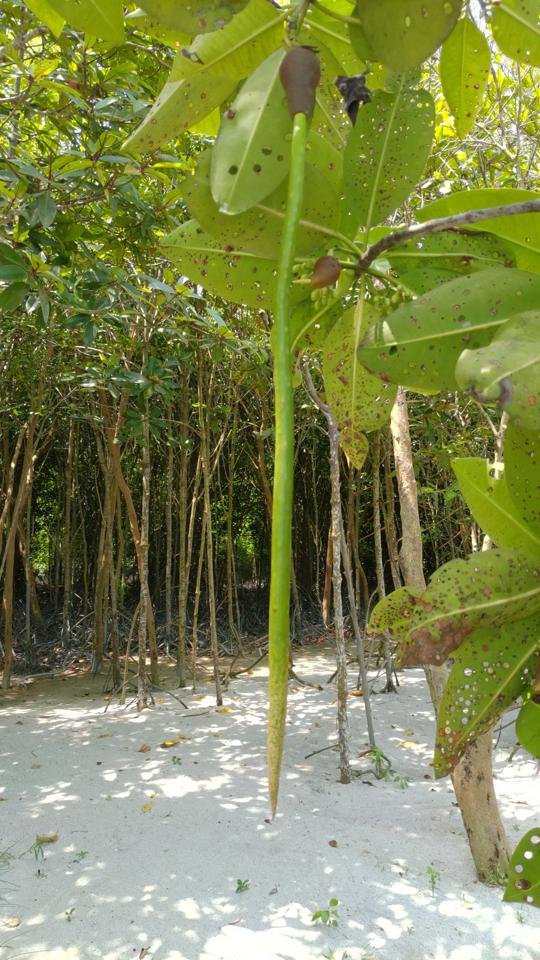mentah: (231, 32, 349, 826)
